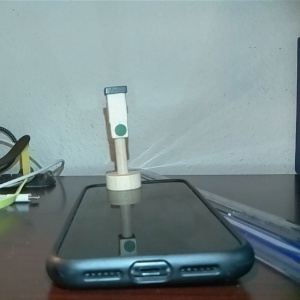traffic light green: (99, 82, 142, 193)
